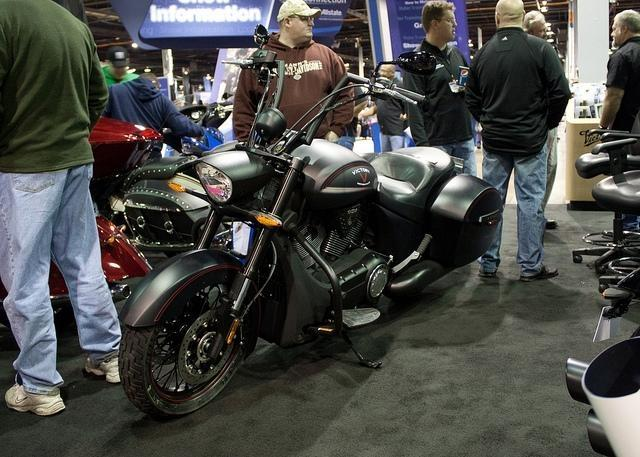motorcycle: (119, 46, 506, 405), (46, 100, 216, 324)
